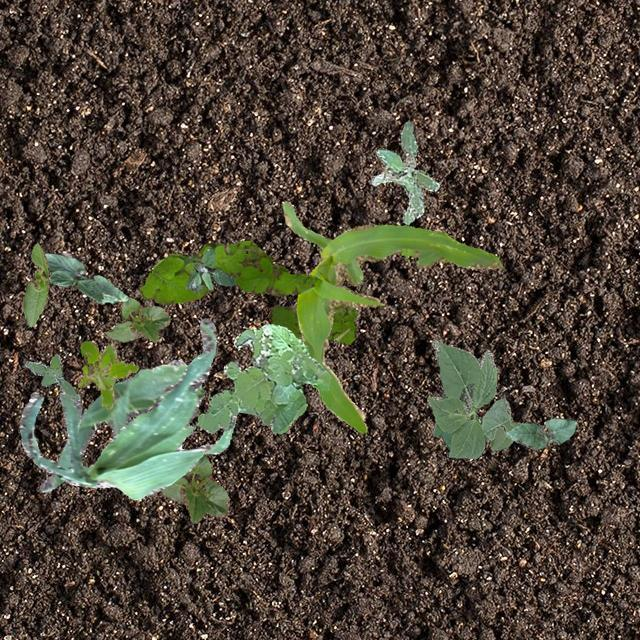crop: (282, 200, 502, 432), (18, 317, 232, 498), (38, 358, 204, 492), (426, 338, 520, 458), (158, 452, 228, 522), (44, 252, 126, 302), (104, 296, 170, 342), (504, 416, 574, 448), (22, 242, 48, 326)
weed: (196, 323, 330, 432), (138, 240, 314, 304), (369, 119, 438, 224), (76, 341, 138, 408), (268, 304, 356, 342), (24, 354, 80, 399), (184, 246, 234, 292), (432, 424, 452, 448)
